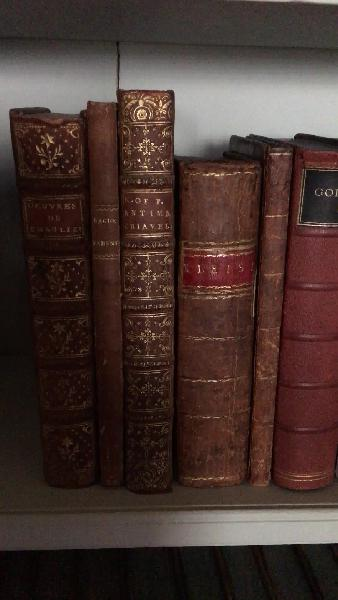Aa6-10: (253, 147, 290, 493)
Aa6-6: (9, 110, 90, 489)
Aa6-7: (85, 91, 124, 494)
Aa6-8: (117, 82, 177, 495)
Aa6-9: (177, 151, 256, 492)
